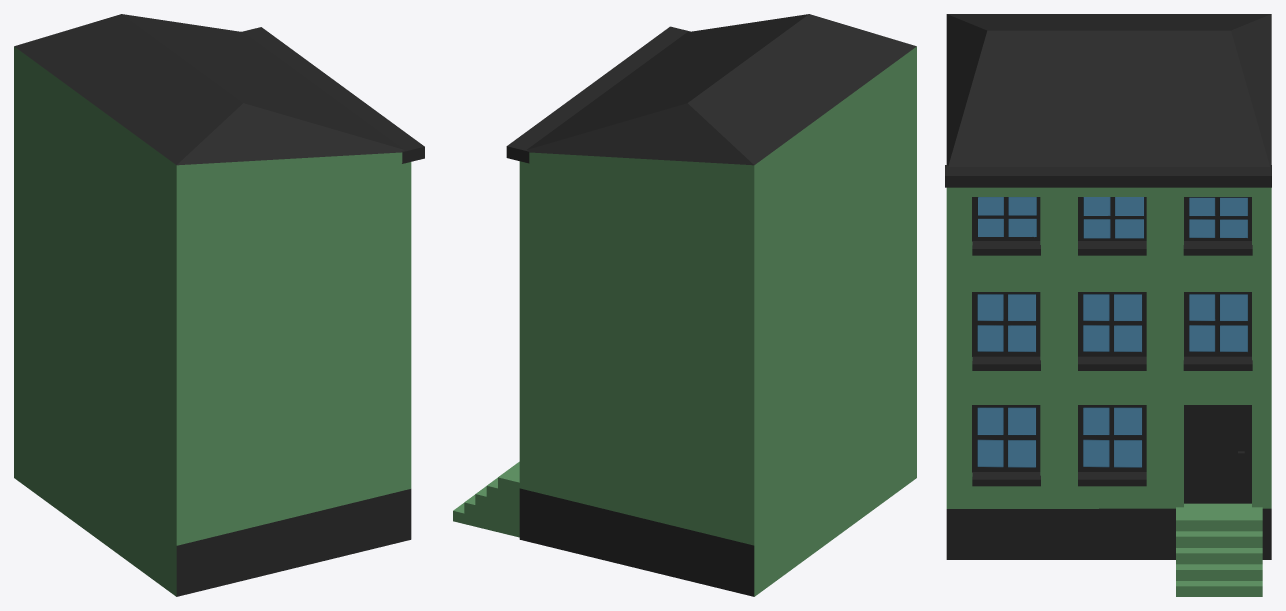
The model's file is NormalGreen.obj.
3 views of the same model, side by side, from view 1: azimuth 30°, elevation 25°; view 2: azimuth 150°, elevation 25°; view 3: azimuth 270°, elevation 25° (orthographic).
Parts seen in each view (by area): view 1: ZwyklyZwyklyZielony; view 2: ZwyklyZwyklyZielony; view 3: ZwyklyZwyklyZielony.
Part boxes in pixels (<box>): ZwyklyZwyklyZielony: <box>14,14,424,596</box>; ZwyklyZwyklyZielony: <box>453,14,916,596</box>; ZwyklyZwyklyZielony: <box>945,14,1271,596</box>.
Bounding box in the file's own units: 6.52 × 9.37 × 6.04.
